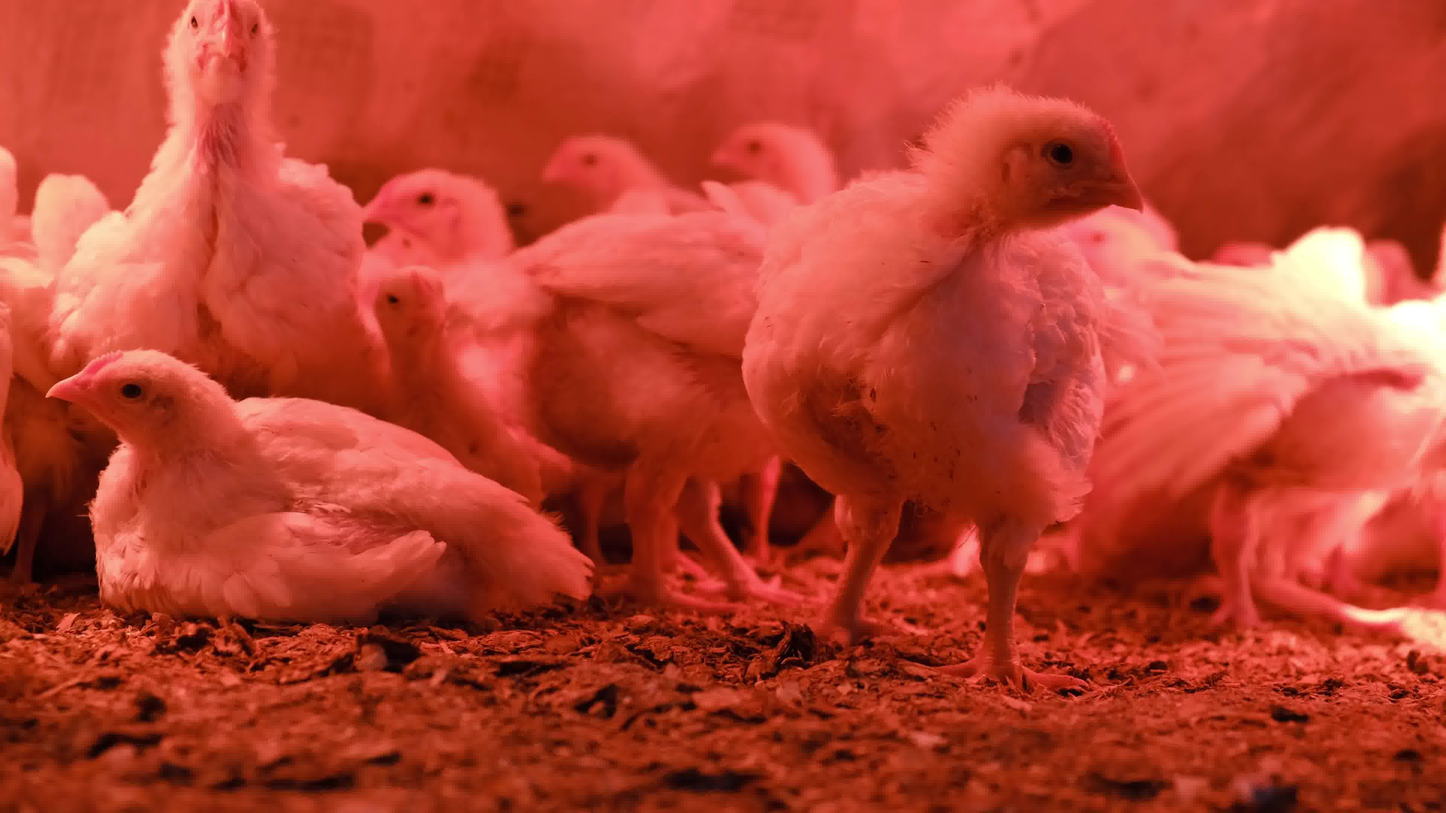AbNormal: (21, 375, 572, 619)
Normal: (749, 87, 1167, 677), (538, 179, 810, 610), (64, 11, 360, 386), (1156, 277, 1446, 627), (341, 286, 559, 480), (350, 132, 518, 256), (682, 100, 836, 203), (1271, 216, 1427, 316), (533, 124, 657, 237)
